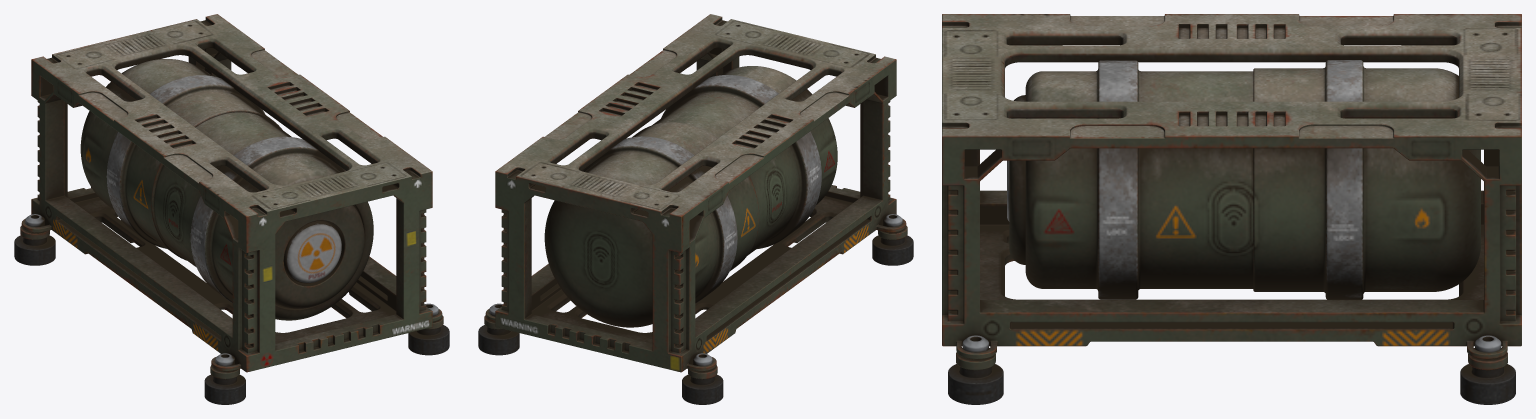
Rendered from tanker_box_metallic_industrial.glb.
3 renders of one model, left to right at view 1: azimuth 30°, elevation 25°; view 2: azimuth 150°, elevation 25°; view 3: azimuth 270°, elevation 25°, orthographic. The views are drawn at different scales.
Visible parts, largest first — view 1: Object_3, Object_4; view 2: Object_3, Object_4; view 3: Object_3, Object_4.
Boxes of the visible parts, bbox=[...] form: Object_3: bbox=[14, 14, 442, 372]; Object_4: bbox=[21, 18, 449, 404]; Object_3: bbox=[478, 14, 905, 404]; Object_4: bbox=[478, 18, 913, 370]; Object_3: bbox=[942, 14, 1521, 404]; Object_4: bbox=[943, 22, 1520, 404].
Bounding box in the file's own units: 642 × 486 × 1000.
Materials: 1 (1 with a texture image).
